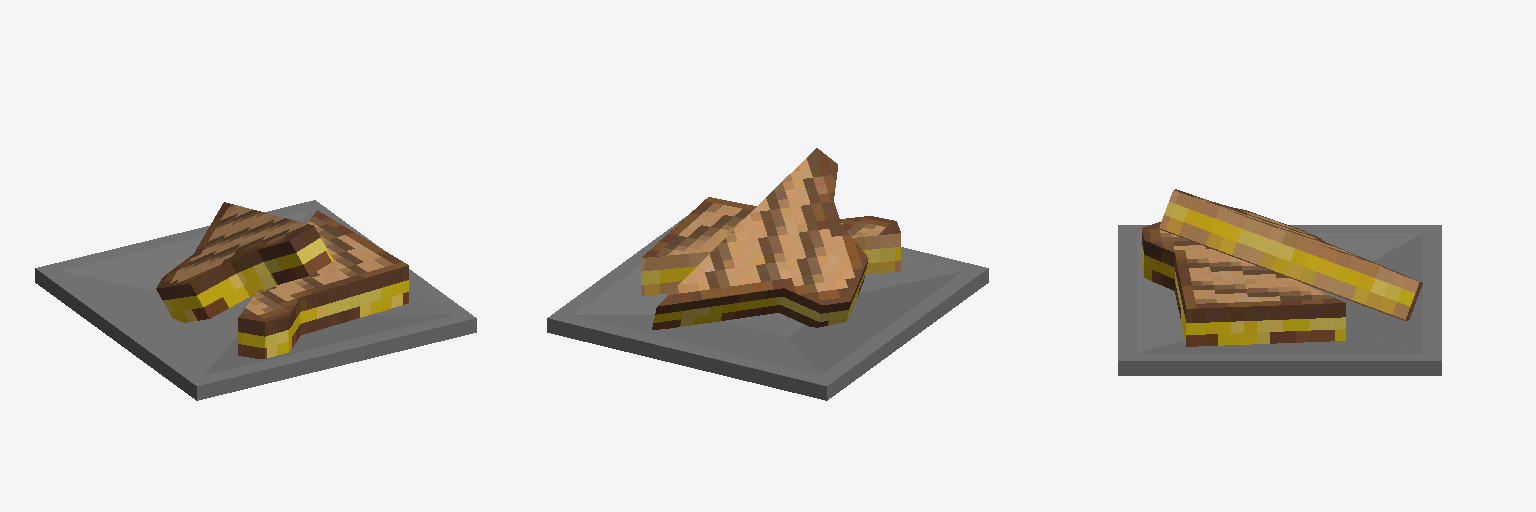
The picture shows the model from 3 angles: view 1: azimuth 30°, elevation 25°; view 2: azimuth 150°, elevation 25°; view 3: azimuth 270°, elevation 25°; orthographic projection.
Parts seen in each view (by area): view 1: pCube58; view 2: pCube58; view 3: pCube58.
Part boxes in pixels (bbox=[...]): pCube58: bbox=[35, 200, 476, 400]; pCube58: bbox=[547, 148, 988, 400]; pCube58: bbox=[1118, 189, 1441, 375].
Bounding box in the file's own units: 0.7255 × 0.3388 × 0.7255.
Materials: 2 (1 with a texture image).